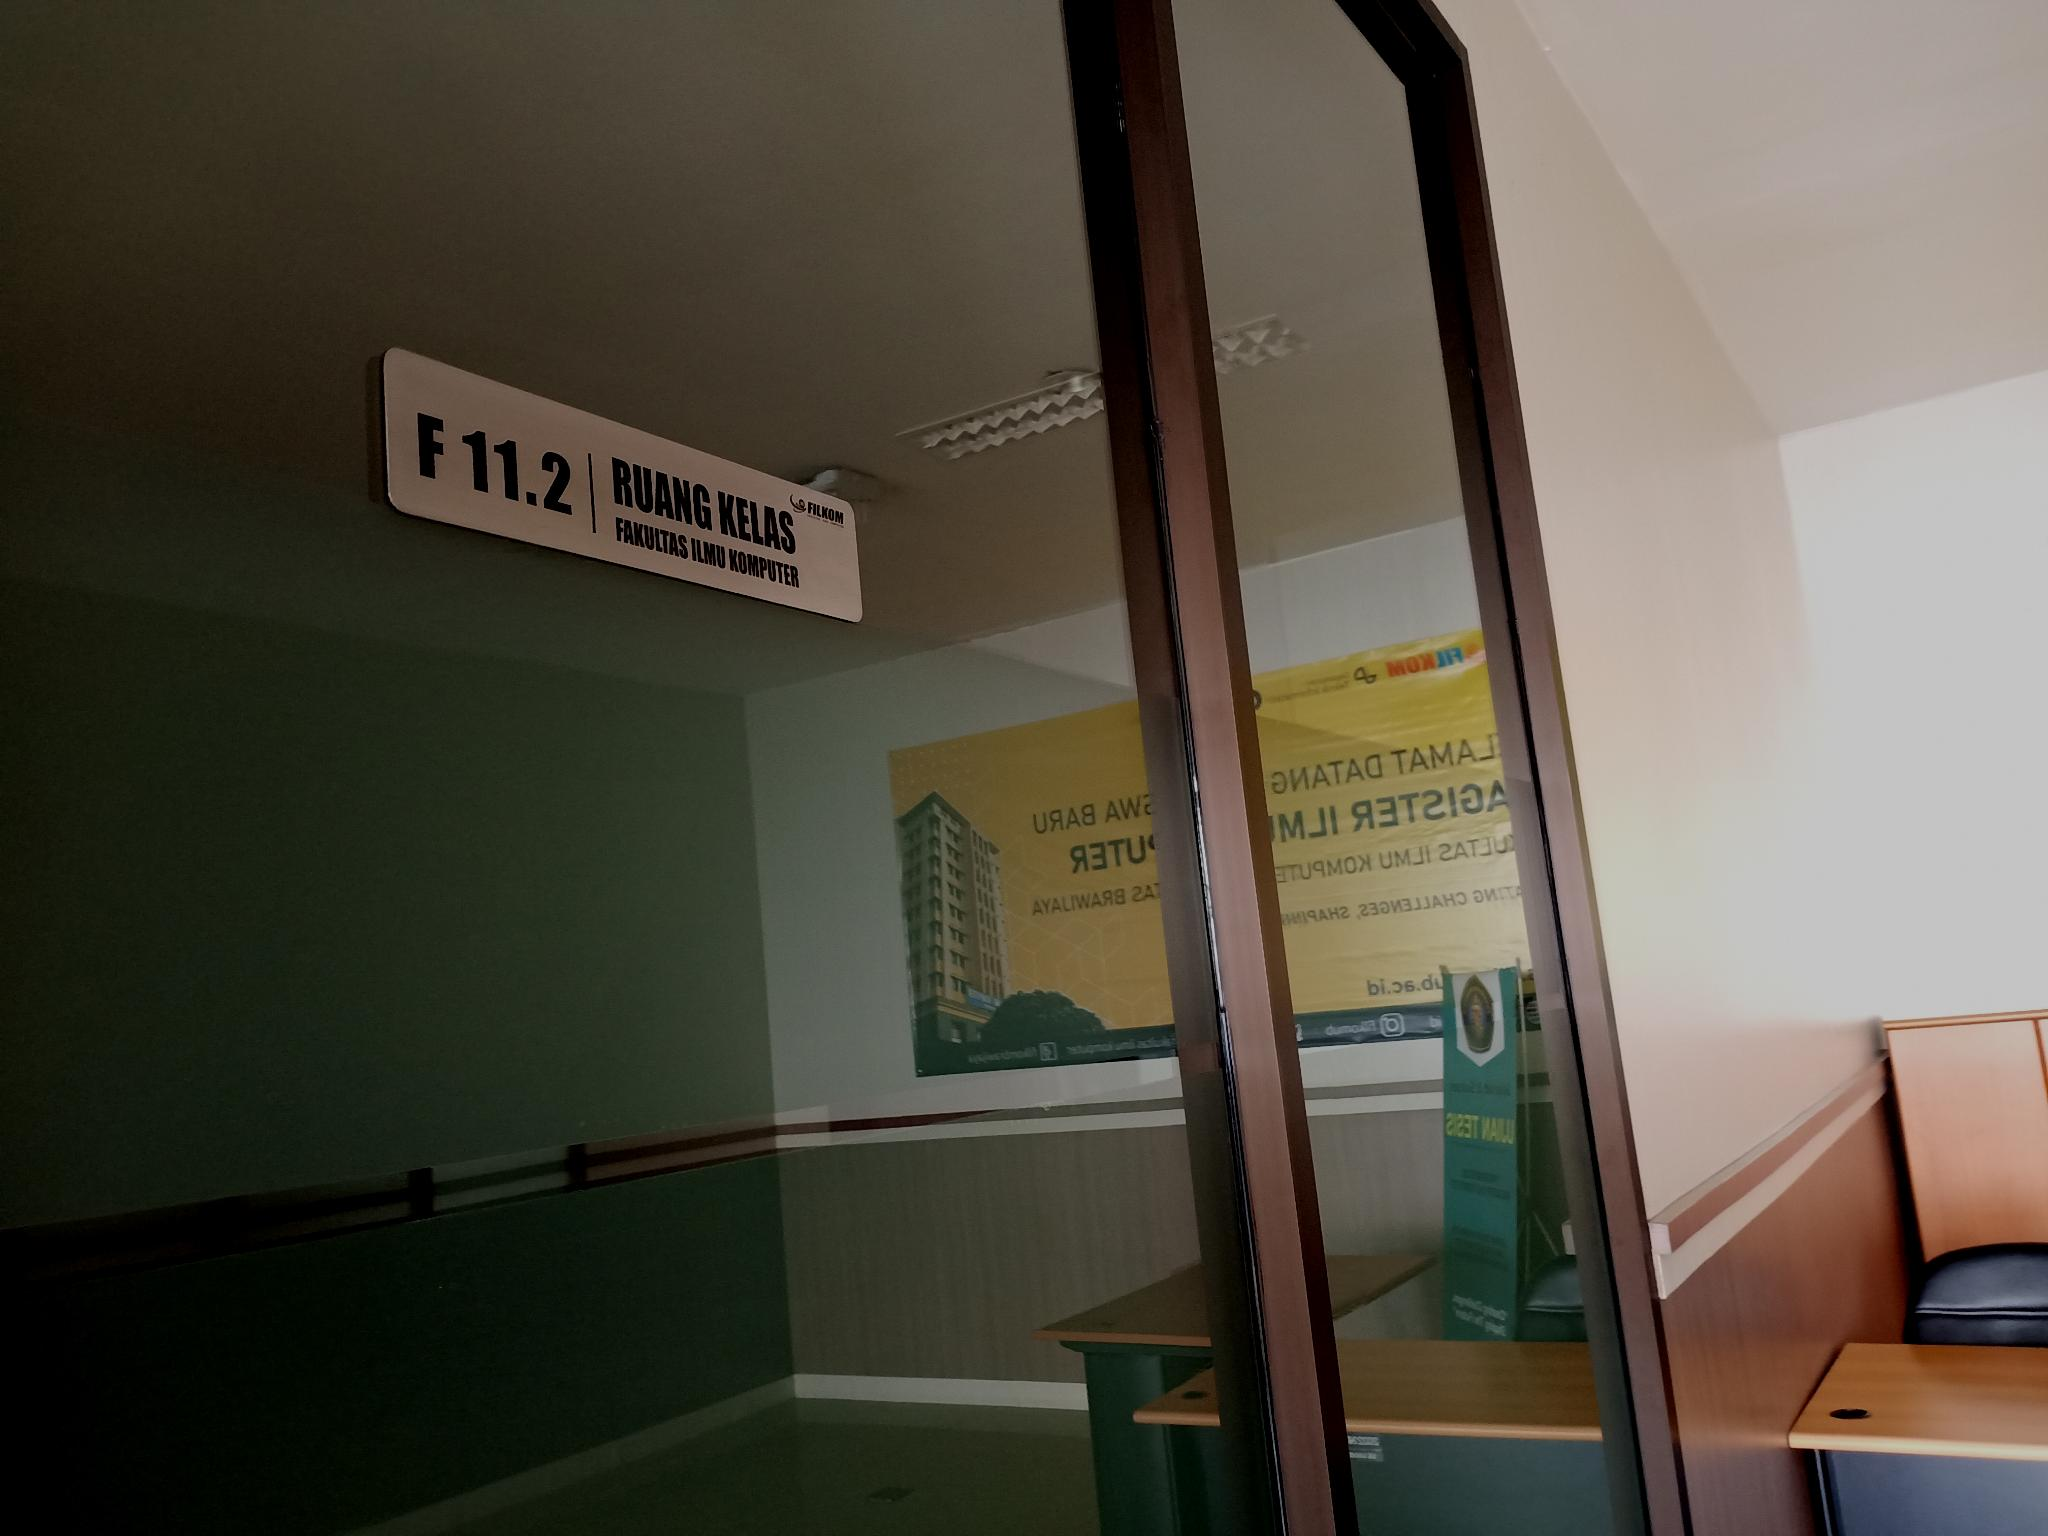plate: (384, 342, 864, 626)
